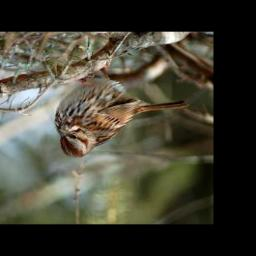Sparrow: (53, 59, 191, 161)
